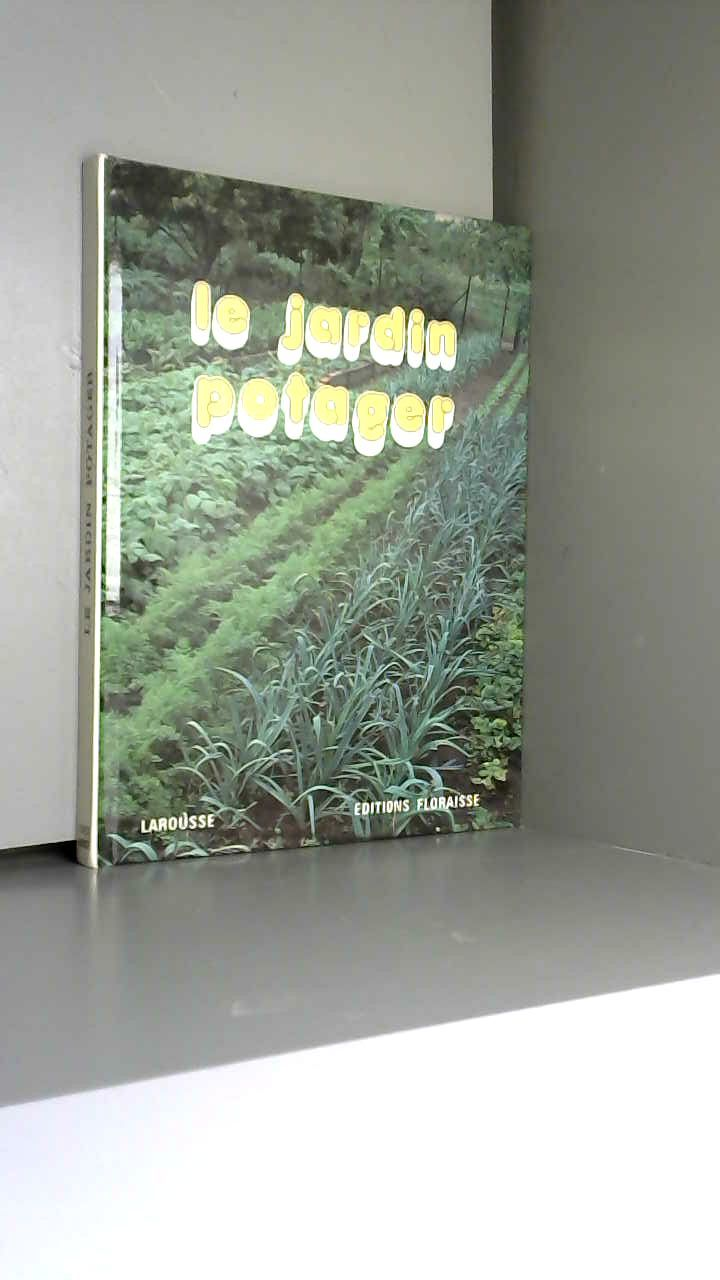book: (27, 115, 573, 918)
